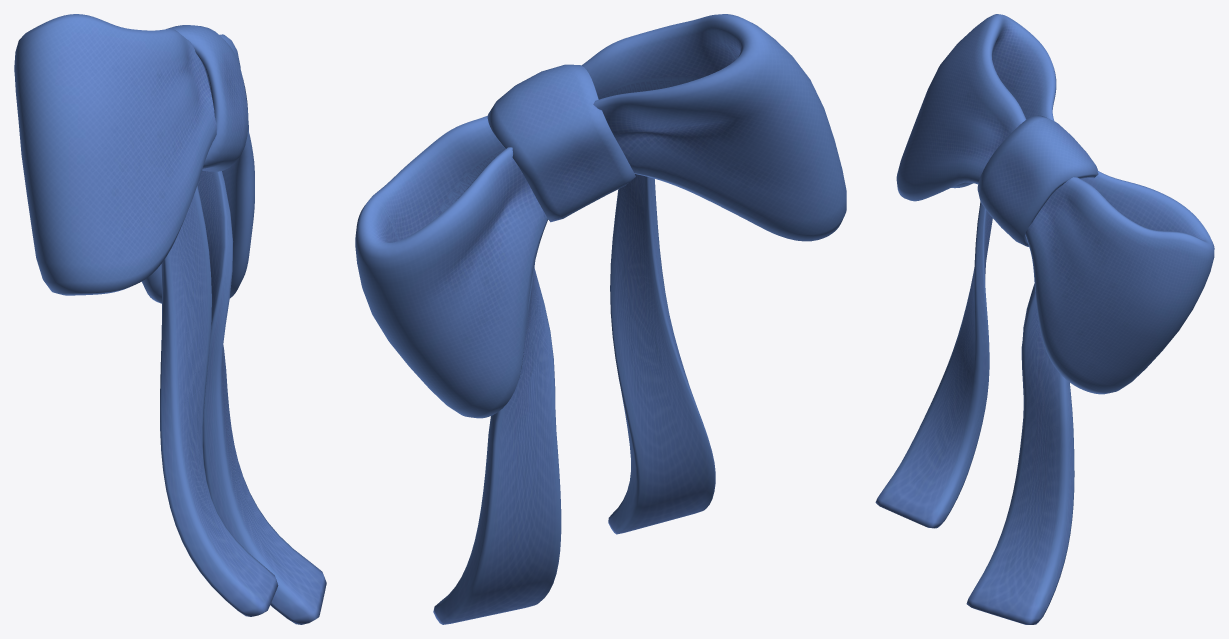
The model's file is Monio.glb.
3 views of the same model, side by side, from view 1: azimuth 30°, elevation 25°; view 2: azimuth 150°, elevation 25°; view 3: azimuth 270°, elevation 25° (orthographic). The views are drawn at different scales.
Visible parts, largest first — view 1: MONO CABEZA; view 2: MONO CABEZA; view 3: MONO CABEZA.
Boxes of the visible parts, left/top/right/bottom form: MONO CABEZA: left=14, top=14, right=326, bottom=624; MONO CABEZA: left=355, top=14, right=846, bottom=624; MONO CABEZA: left=875, top=14, right=1214, bottom=624.
Bounding box in the file's own units: 0.7349 × 1.33 × 0.8053.
1 material, 1 textured.
